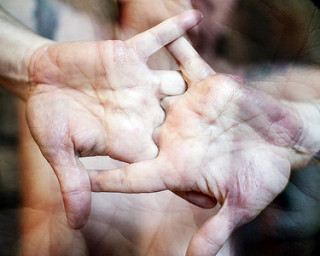palm: (173, 87, 288, 196), (43, 45, 150, 136)
